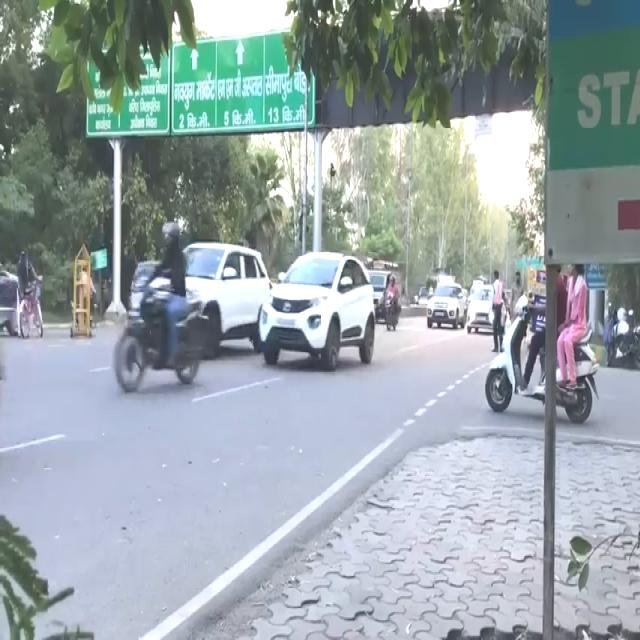MOTORCYCLE: (489, 294, 593, 419), (110, 276, 212, 381), (382, 292, 400, 332)
SUV: (265, 252, 377, 366)
